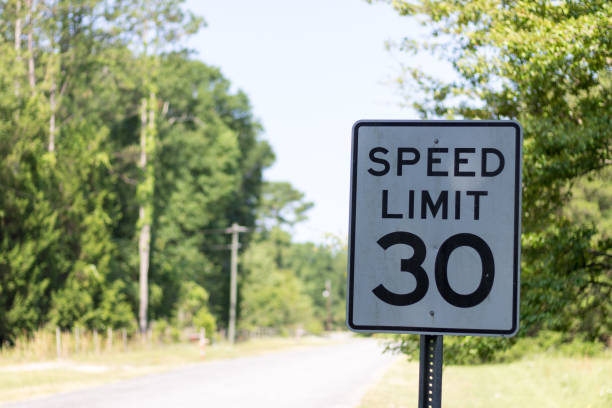SpeedLimitSign: (345, 118, 522, 337)
